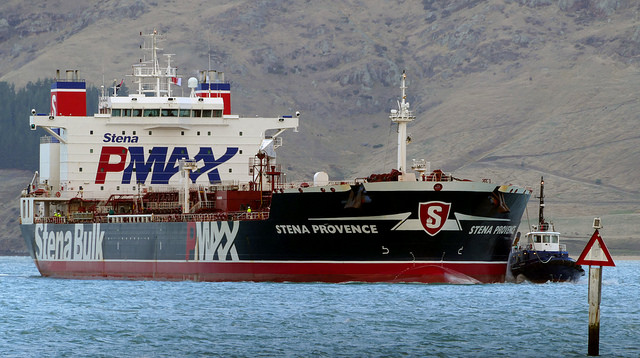tanker: (13, 37, 522, 281)
tug_boat: (515, 174, 582, 286)
